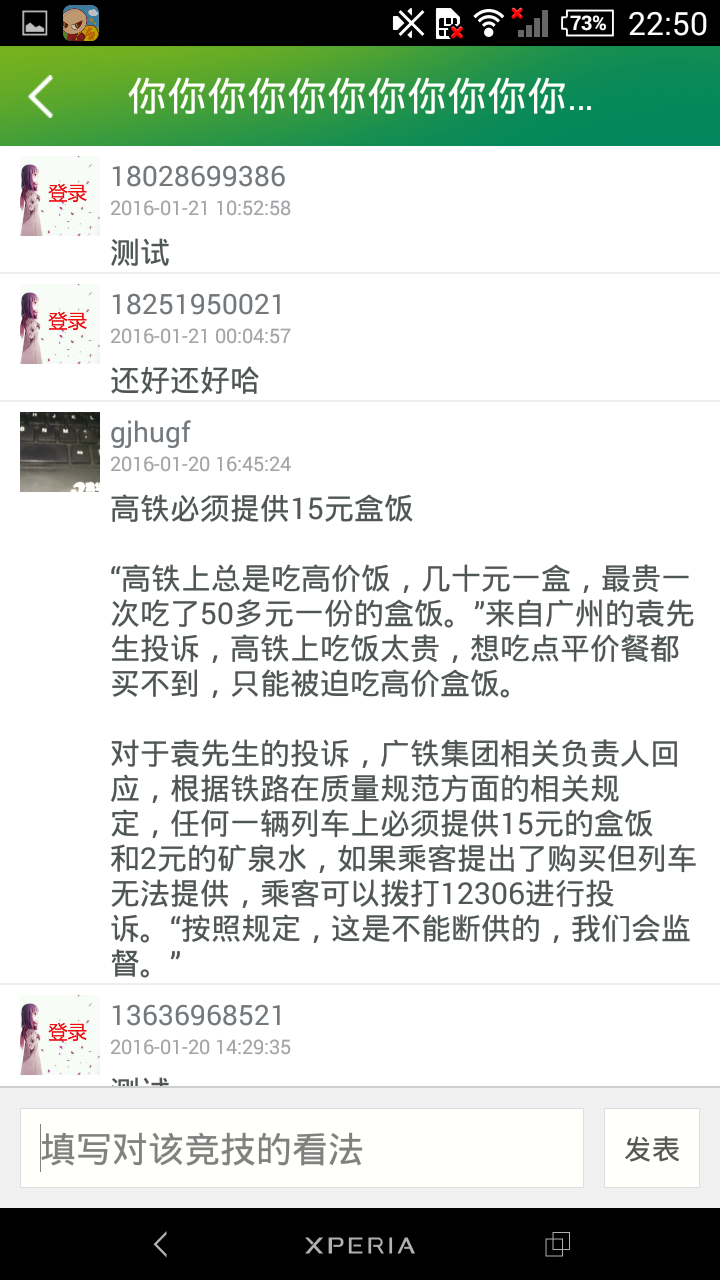button: (600, 1098, 706, 1198)
imgbutton: (13, 64, 83, 135)
textview: (4, 148, 720, 1090), (13, 1102, 591, 1194)
